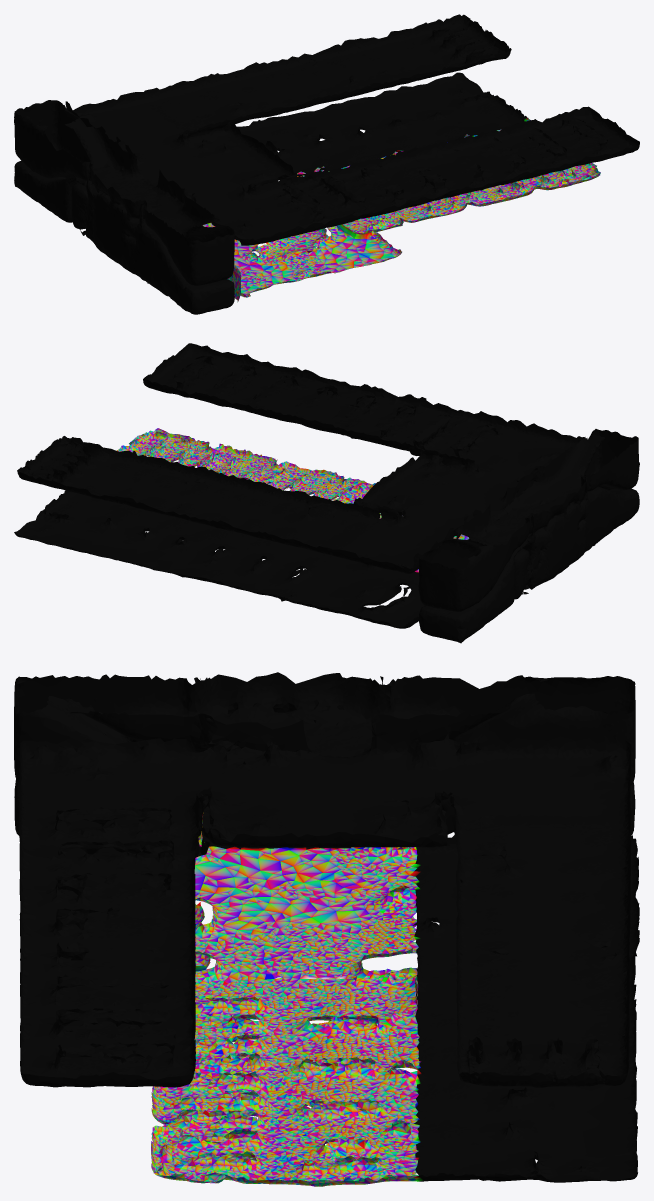
File: Biblioteca_v3.fbx
3 views of the same model, one above another, from view 1: azimuth 30°, elevation 25°; view 2: azimuth 150°, elevation 25°; view 3: azimuth 270°, elevation 25° (orthographic). The views are drawn at different scales.
Visible parts, largest first — view 1: LobbySceneMeshOverride [GLOBAL_MESH_0086_V].001; view 2: LobbySceneMeshOverride [GLOBAL_MESH_0086_V].001; view 3: LobbySceneMeshOverride [GLOBAL_MESH_0086_V].001.
Boxes of the visible parts, x1,y1,x2,y2 form: LobbySceneMeshOverride [GLOBAL_MESH_0086_V].001: [14, 14, 639, 314]; LobbySceneMeshOverride [GLOBAL_MESH_0086_V].001: [14, 343, 639, 643]; LobbySceneMeshOverride [GLOBAL_MESH_0086_V].001: [14, 672, 639, 1186].
Bounding box in the file's own units: 3057 × 498 × 2102.
